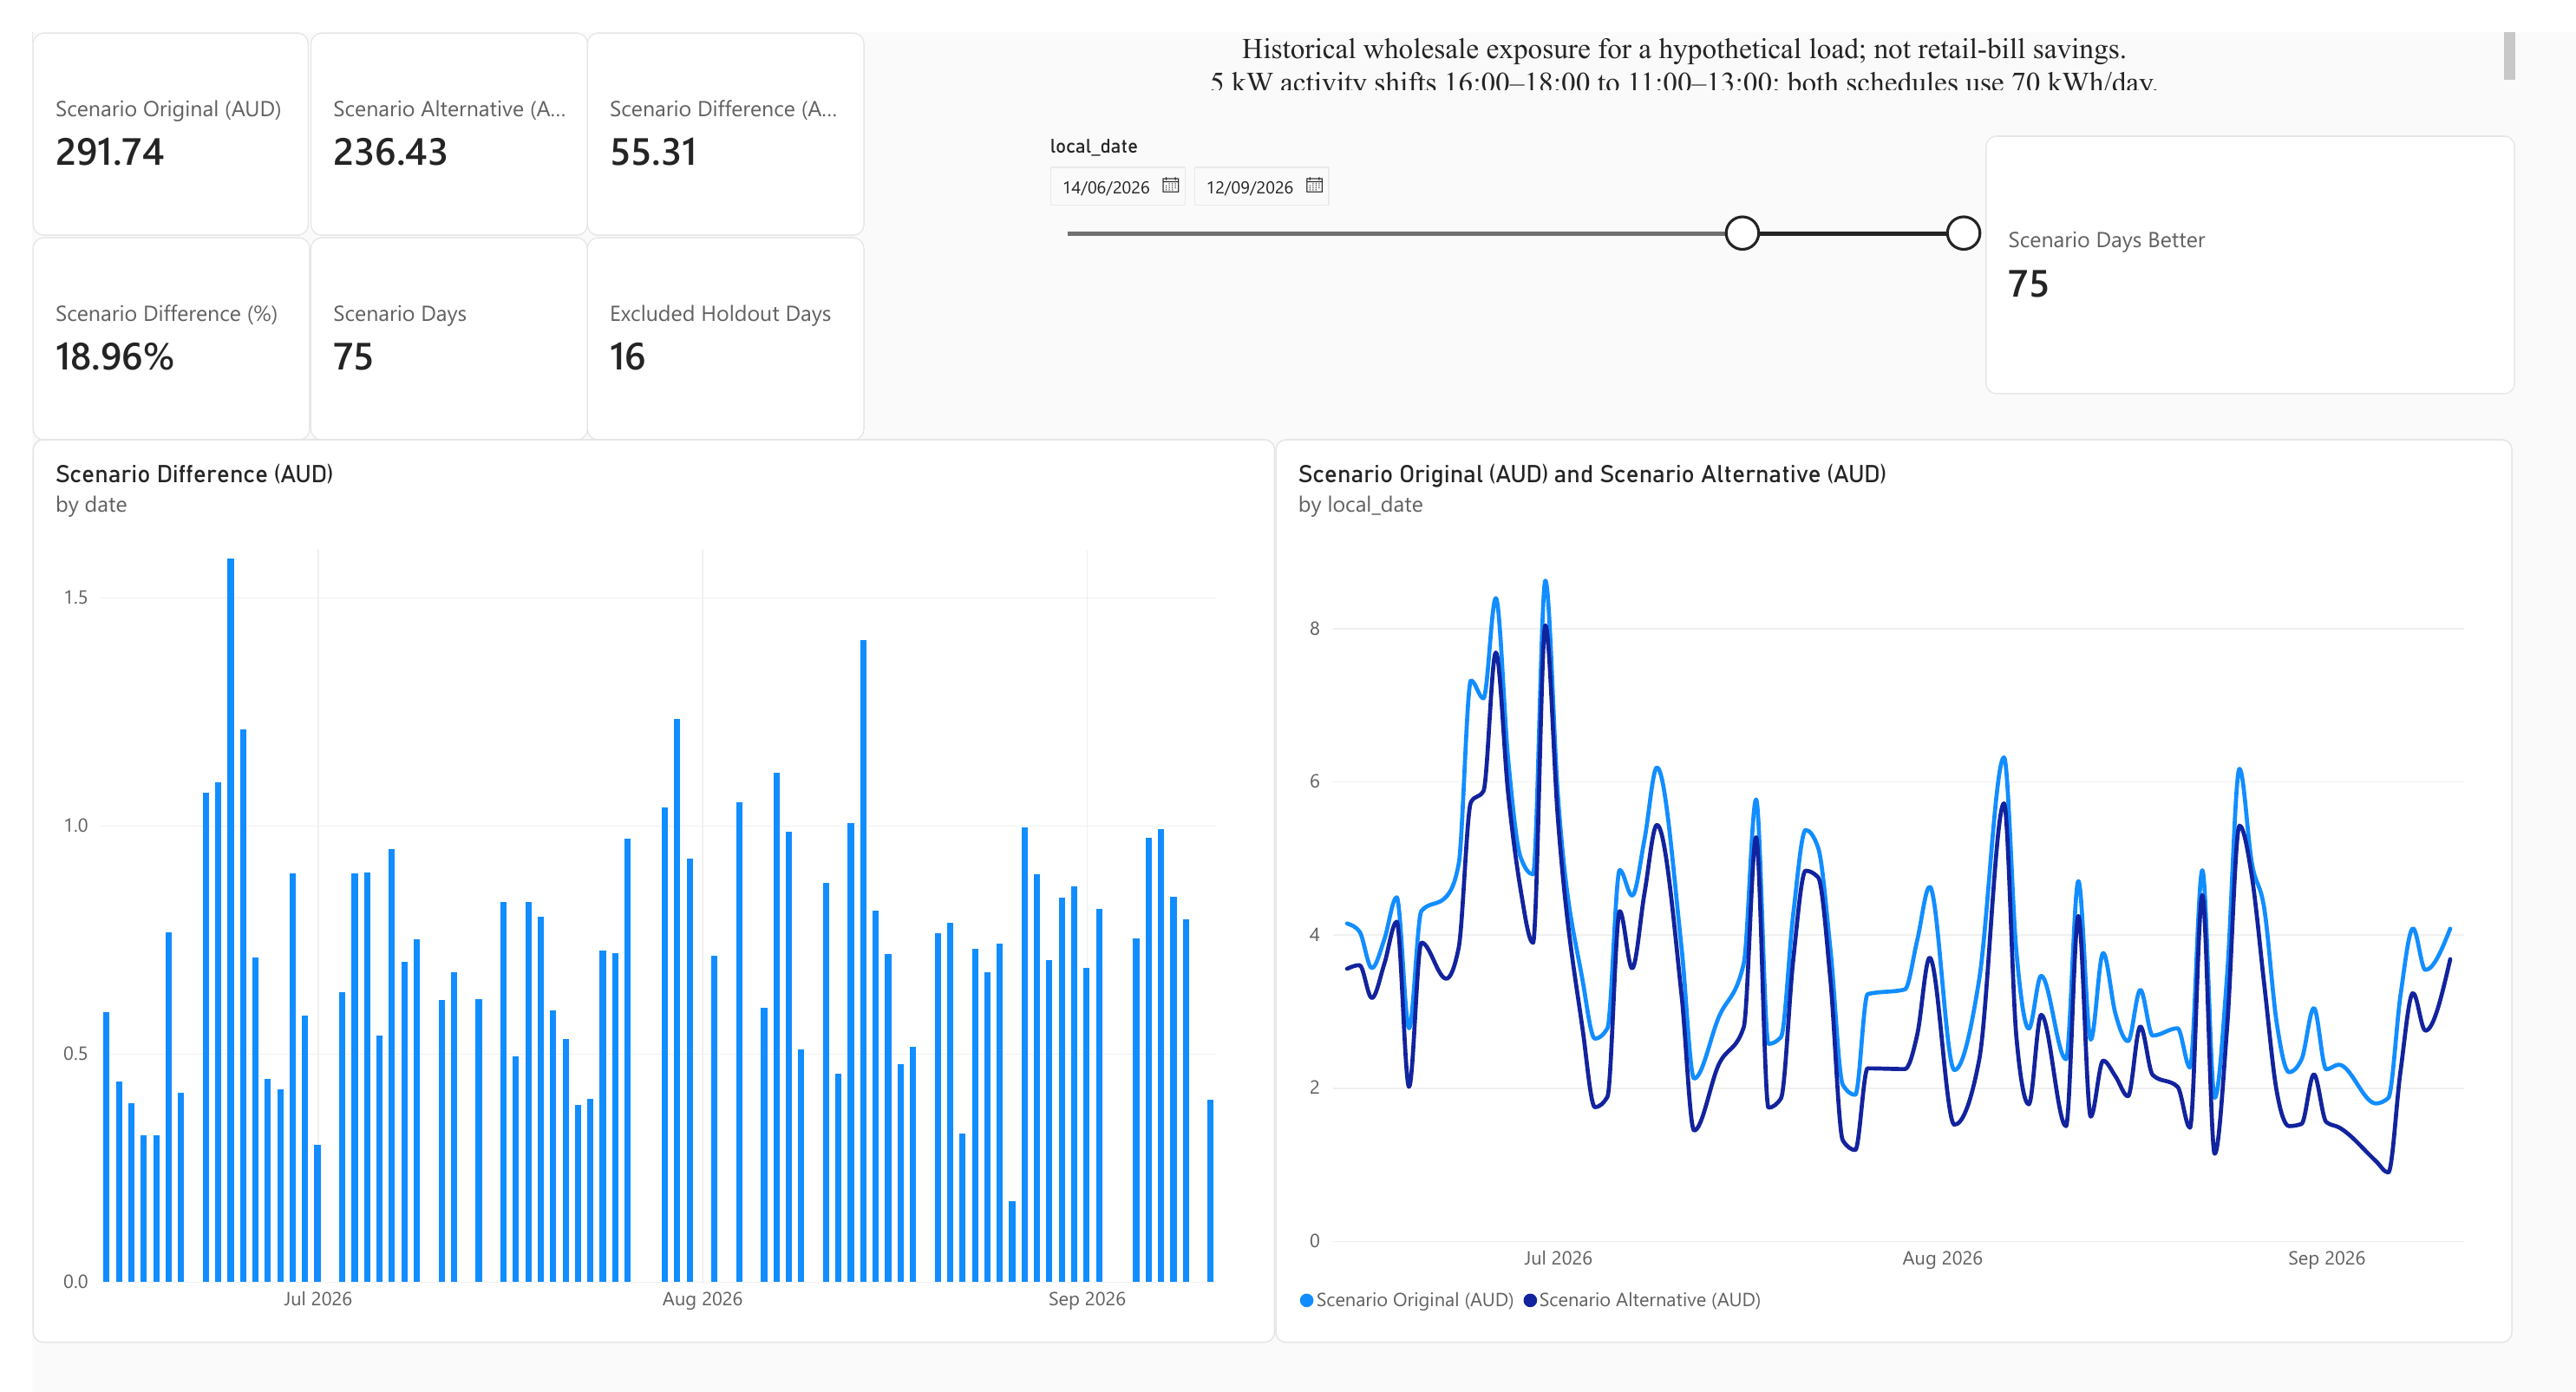

Layout of this report page (visuals, bound fields, positions):
{"tool":"powerbi","page":{"name":"Scenario","canvas":[1920,1080],"ordinal":2},"visuals":[{"type":"cardVisual","fields":{"Data":["scenario_daily.Scenario Original (AUD)"]},"box":[0,0,204.7,150.5],"z":0},{"type":"cardVisual","fields":{"Data":["scenario_daily.Scenario Alternative (AUD)"]},"box":[204.7,0,205,150],"z":1000},{"type":"cardVisual","fields":{"Data":["scenario_daily.Scenario Difference (AUD)"]},"box":[409.4,0,205,150],"z":2000},{"type":"cardVisual","fields":{"Data":["scenario_daily.Scenario Difference (%)"]},"box":[0,150.5,205,150],"z":3000},{"type":"cardVisual","fields":{"Data":["scenario_daily.Scenario Days"]},"box":[204.7,150.5,205,150],"z":4000},{"type":"cardVisual","fields":{"Data":["scenario_daily.Excluded Holdout Days"]},"box":[409.4,150.5,205,150],"z":5000},{"type":"clusteredColumnChart","fields":{"Category":["scenario_daily.date"],"Y":["scenario_daily.Scenario Difference (AUD)"]},"box":[0,300.3,917,667.1],"z":6000},{"type":"textbox","box":[614.1,0,1218.2,42.1],"z":7000},{"type":"slicer","fields":{"Values":["dim_date.local_date"]},"box":[742.6,75.5,698.4,190.7],"z":7001},{"type":"cardVisual","fields":{"Data":["scenario_daily.Scenario Days Better"]},"box":[1441,76,391,191],"z":7002},{"type":"lineChart","fields":{"Category":["dim_date.local_date"],"Y":["scenario_daily.Scenario Original (AUD)","scenario_daily.Scenario Alternative (AUD)"]},"box":[917,300.3,913.4,667.1],"z":7003}]}

Visuals, with their boxes on the page's 1920x1080 design canvas (x1, y1, x2, y2). These are canvas units, not pixel positions in the 2576x1392 screenshot, which may show the page scaled, cropped or inside an application window:
cardVisual - scenario_daily.Scenario Original (AUD): region(0, 0, 205, 150)
cardVisual - scenario_daily.Scenario Alternative (AUD): region(205, 0, 410, 150)
cardVisual - scenario_daily.Scenario Difference (AUD): region(409, 0, 614, 150)
cardVisual - scenario_daily.Scenario Difference (%): region(0, 150, 205, 300)
cardVisual - scenario_daily.Scenario Days: region(205, 150, 410, 300)
cardVisual - scenario_daily.Excluded Holdout Days: region(409, 150, 614, 300)
clusteredColumnChart - scenario_daily.date x scenario_daily.Scenario Difference (AUD): region(0, 300, 917, 967)
textbox: region(614, 0, 1832, 42)
slicer - dim_date.local_date: region(743, 76, 1441, 266)
cardVisual - scenario_daily.Scenario Days Better: region(1441, 76, 1832, 267)
lineChart - dim_date.local_date x scenario_daily.Scenario Original (AUD): region(917, 300, 1830, 967)
